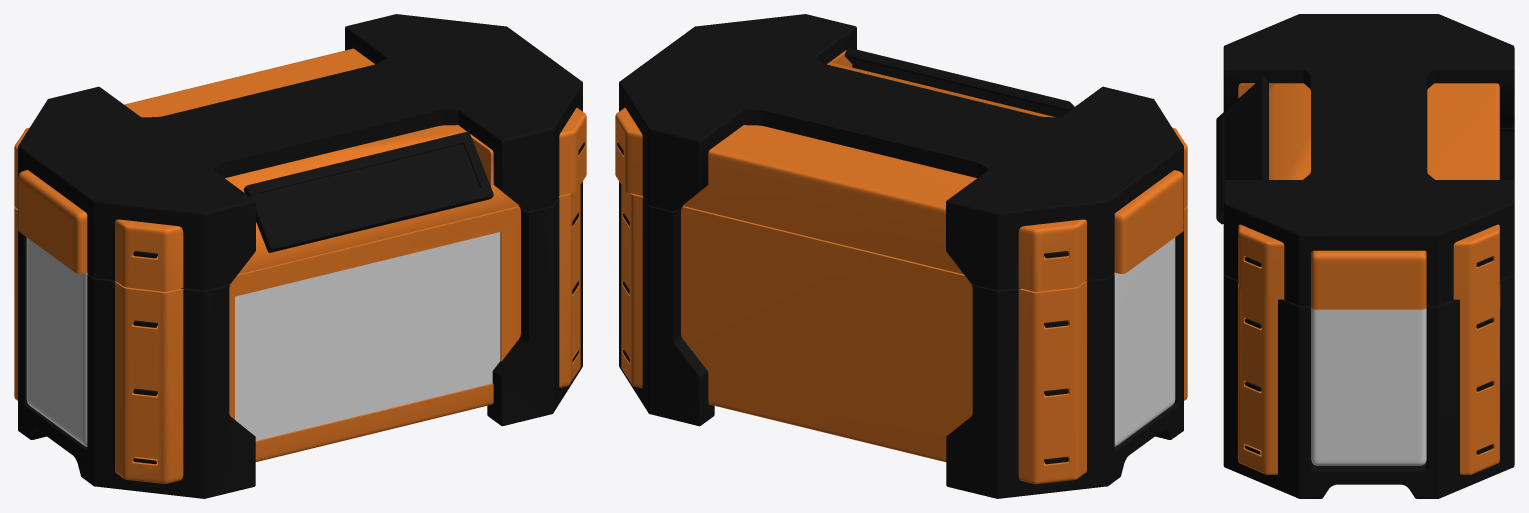
File: WeaponCache_UnityDemo.fbx
3 views of the same model, side by side, from view 1: azimuth 30°, elevation 25°; view 2: azimuth 150°, elevation 25°; view 3: azimuth 270°, elevation 25° (orthographic). The views are drawn at different scales.
Parts seen in each view (by area): view 1: Cube.013, Cube.016, Cube.006, Cube, Cube.012, Cube.010, Cube.001, Cube.018, Cube.014; view 2: Cube.006, Cube.013, Cube, Cube.012, Cube.010, Cube.014, Cube.018; view 3: Cube.013, Cube, Cube.010, Cube.012, Cube.006, Cube.014, Cube.018, Cube.001.
Boxes of the visible parts, x1,y1,x2,y2 form: Cube.013: (18,14,582,290); Cube.016: (235,232,500,440); Cube.006: (14,185,580,483); Cube: (18,181,582,498); Cube.012: (14,48,586,291); Cube.010: (26,237,87,446); Cube.001: (260,144,480,237); Cube.018: (243,131,493,252); Cube.014: (18,170,87,273); Cube.006: (621,185,1187,484); Cube.013: (619,14,1183,290); Cube: (619,181,1183,498); Cube.012: (615,50,1187,291); Cube.010: (1114,237,1175,446); Cube.014: (1114,170,1183,273); Cube.018: (844,47,1074,117); Cube.013: (1223,14,1514,305); Cube: (1223,128,1514,498); Cube.010: (1311,307,1426,465); Cube.012: (1238,83,1499,299); Cube.006: (1238,284,1500,474); Cube.014: (1311,250,1426,309); Cube.018: (1216,77,1268,224); Cube.001: (1224,89,1255,179).
Bounding box in the file's own units: 373 × 201 × 205.
